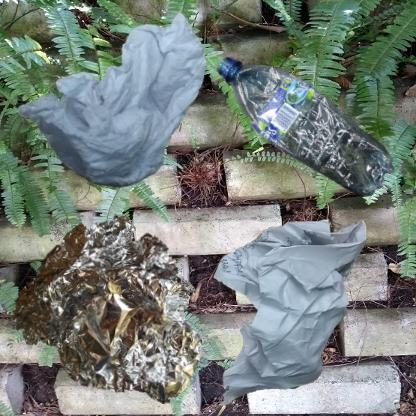aluminio: (10, 213, 206, 404)
botella: (213, 10, 416, 299)
papel: (10, 10, 219, 198), (213, 213, 367, 406)
